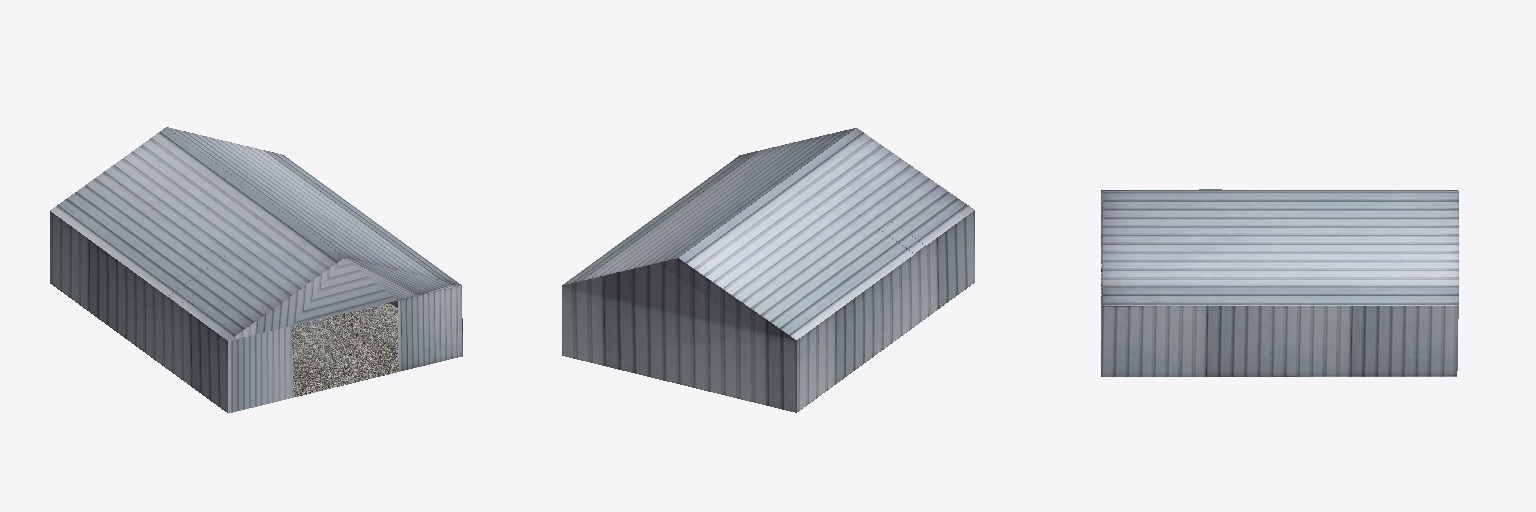
The picture shows the model from 3 angles: view 1: azimuth 30°, elevation 25°; view 2: azimuth 150°, elevation 25°; view 3: azimuth 270°, elevation 25°; orthographic projection.
Visible parts, largest first — view 1: AirCraft_Hanger; view 2: AirCraft_Hanger; view 3: AirCraft_Hanger.
Boxes of the visible parts, x1=… form: AirCraft_Hanger: x1=50, y1=127, x2=462, y2=413; AirCraft_Hanger: x1=562, y1=128, x2=974, y2=412; AirCraft_Hanger: x1=1101, y1=189, x2=1458, y2=376.
Size of the model in its own units: 46.34 by 23.88 by 61.1.
3 materials, 3 textured.